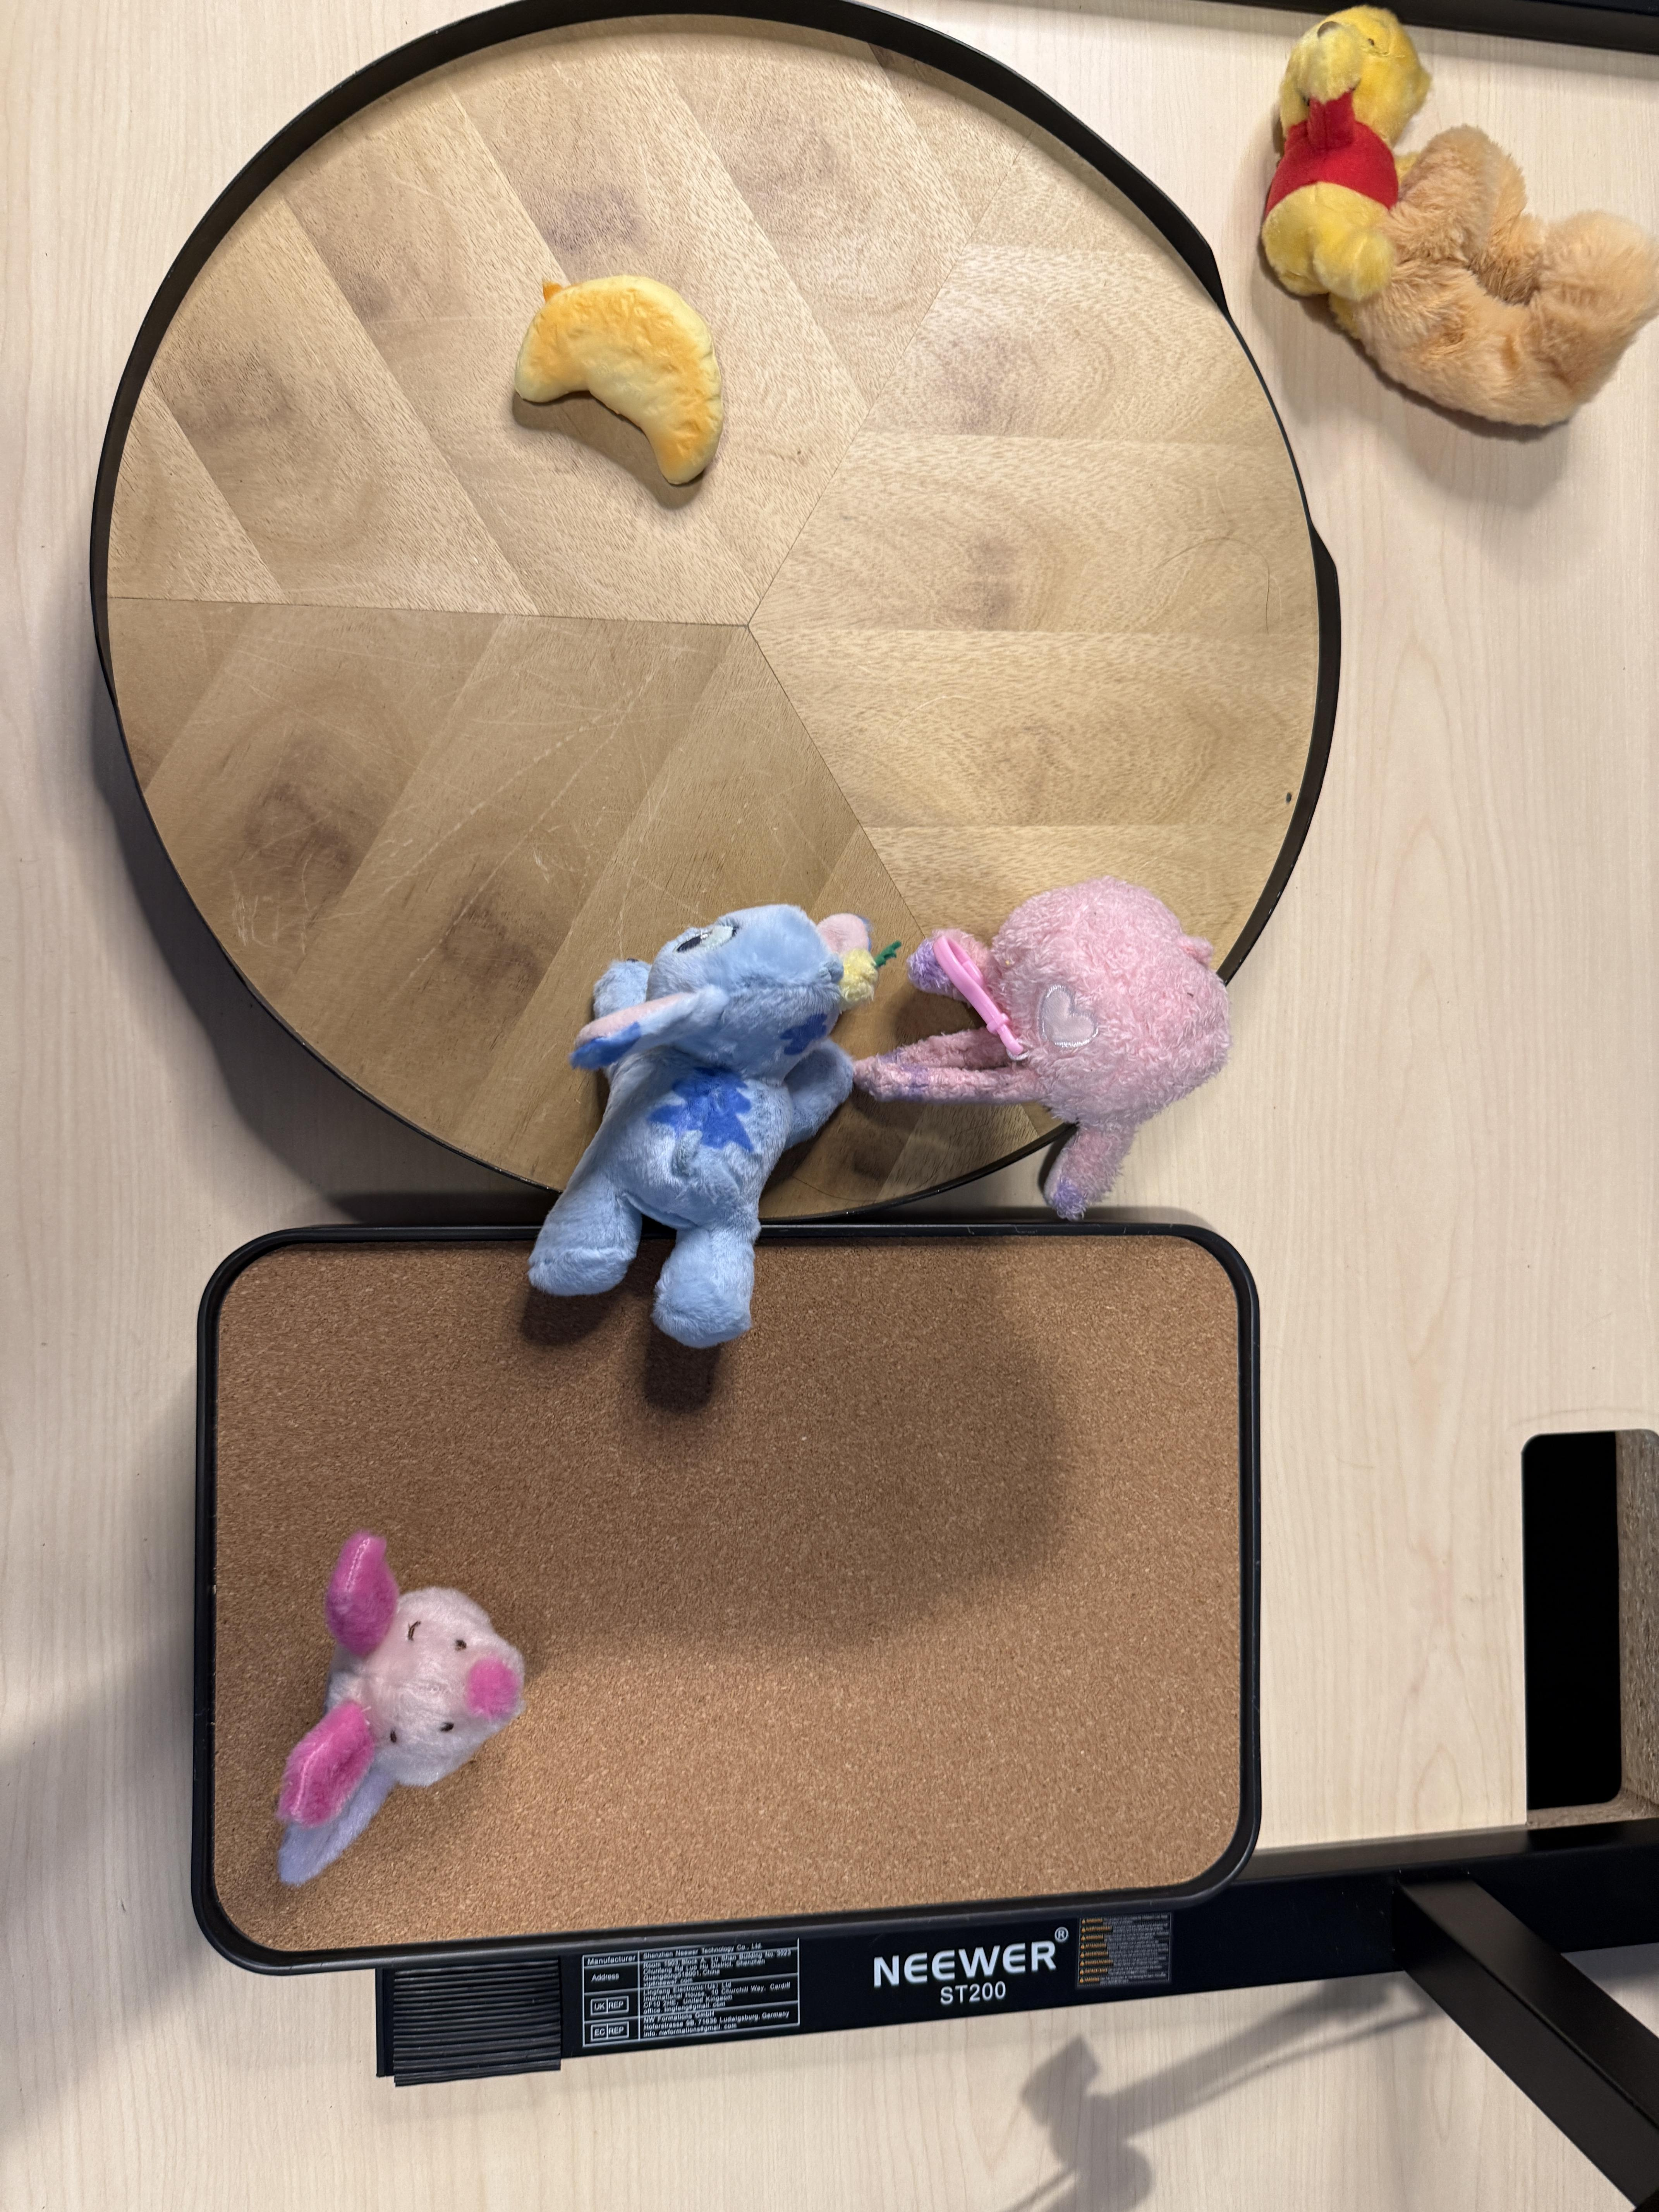bread: (511, 263, 741, 486)
doll: (1267, 12, 1649, 430), (551, 895, 863, 1346), (868, 874, 1244, 1214), (275, 1526, 538, 1890)
